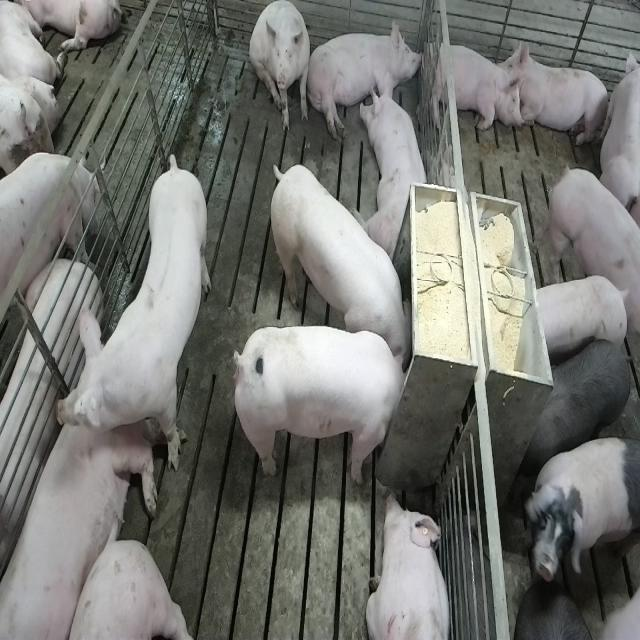Feeding: (265, 161, 412, 367), (228, 323, 408, 484)
Lateral_lying: (307, 16, 424, 142)
Sitting: (250, 1, 312, 135)
Standing: (53, 158, 212, 482), (0, 155, 98, 346), (520, 434, 636, 582), (546, 162, 638, 344), (520, 337, 636, 479), (532, 274, 629, 358)
Sternal_lying: (0, 368, 150, 635), (365, 489, 453, 640), (364, 71, 434, 259), (510, 42, 612, 148), (424, 35, 522, 136)
